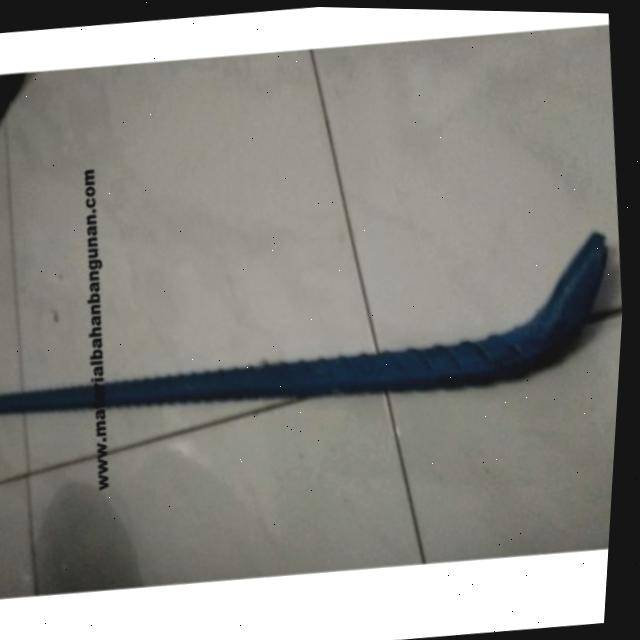crow bar: (0, 216, 622, 420)
